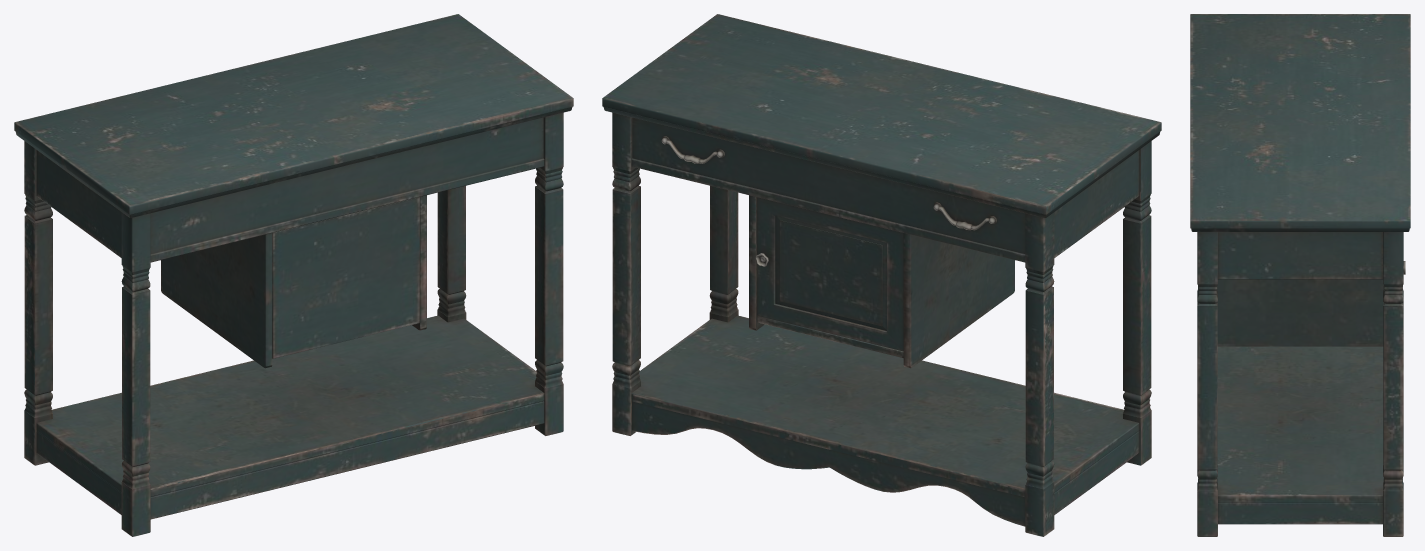
The model's file is Mesa.obj.
3 views of the same model, side by side, from view 1: azimuth 30°, elevation 25°; view 2: azimuth 150°, elevation 25°; view 3: azimuth 270°, elevation 25° (orthographic). The views are drawn at different scales.
Parts seen in each view (by area): view 1: old_rustic_stand; view 2: old_rustic_stand; view 3: old_rustic_stand.
Boxes of the visible parts, x1,y1,x2,y2 form: old_rustic_stand: (14, 14, 573, 536); old_rustic_stand: (602, 14, 1161, 536); old_rustic_stand: (1190, 14, 1410, 536).
Size of the model in its own units: 1.74 by 1.26 by 0.785.
1 material, 1 textured.
